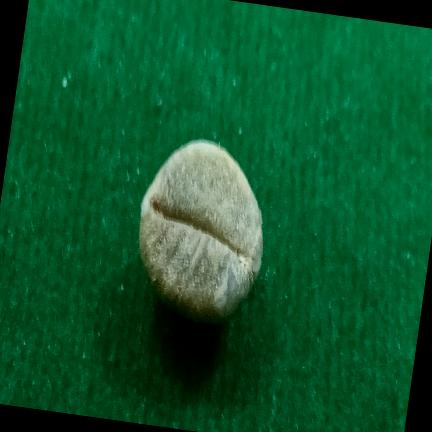good: (139, 140, 262, 322)
